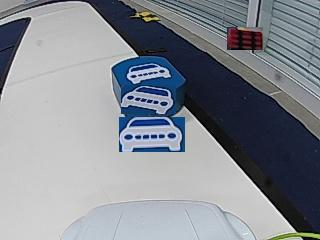safety: (125, 62, 172, 84)
